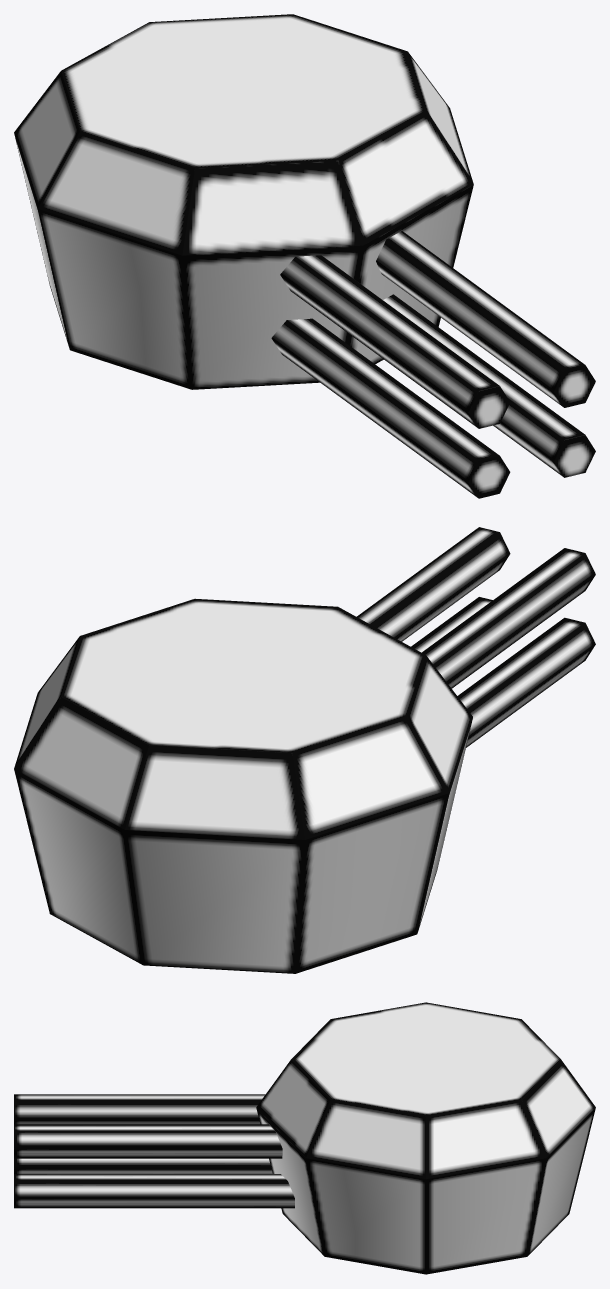
The model's file is Turret3.obj.
3 views of the same model, one above another, from view 1: azimuth 30°, elevation 25°; view 2: azimuth 150°, elevation 25°; view 3: azimuth 270°, elevation 25° (orthographic). The views are drawn at different scales.
Parts seen in each view (by area): view 1: Cylinder04; view 2: Cylinder04; view 3: Cylinder04.
Boxes of the visible parts, left/top/right/bottom form: Cylinder04: left=14, top=14, right=595, bottom=498; Cylinder04: left=14, top=527, right=595, bottom=973; Cylinder04: left=14, top=1002, right=595, bottom=1274.
Size of the model in its own units: 1.97 by 0.9867 by 3.37.
Materials: 1 (1 with a texture image).
